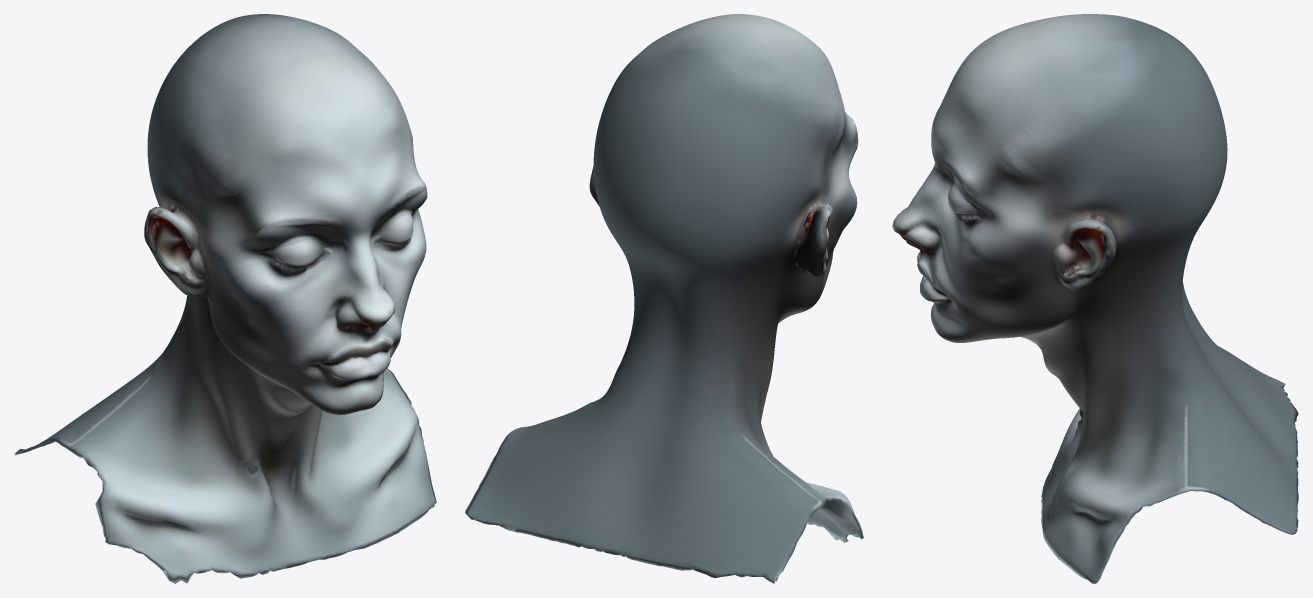
Rendered from preview.glb.
3 renders of one model, left to right at view 1: azimuth 30°, elevation 25°; view 2: azimuth 150°, elevation 25°; view 3: azimuth 270°, elevation 25°, orthographic. The views are drawn at different scales.
Visible parts, largest first — view 1: Head_Think2_LP.001_glb; view 2: Head_Think2_LP.001_glb; view 3: Head_Think2_LP.001_glb.
Part boxes in pixels (x1,y1,x2,y2): Head_Think2_LP.001_glb: (14,14,436,583); Head_Think2_LP.001_glb: (465,14,863,583); Head_Think2_LP.001_glb: (892,14,1298,583).
Size of the model in its own units: 0.659 by 1 by 0.7524.
Materials: 1 (1 with a texture image).
